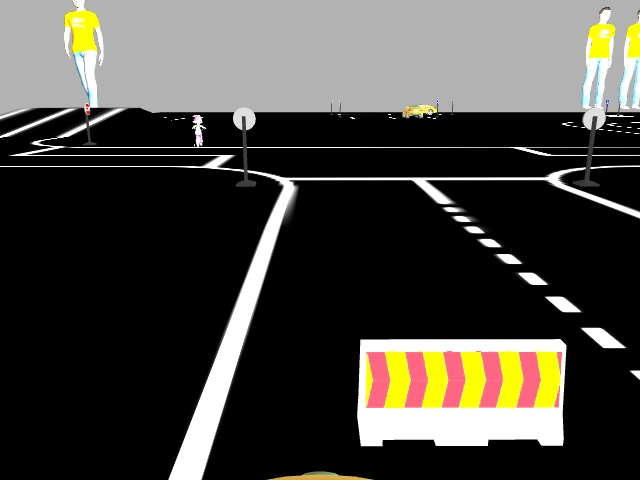ClosedRoadStand: (359, 341, 563, 441)
